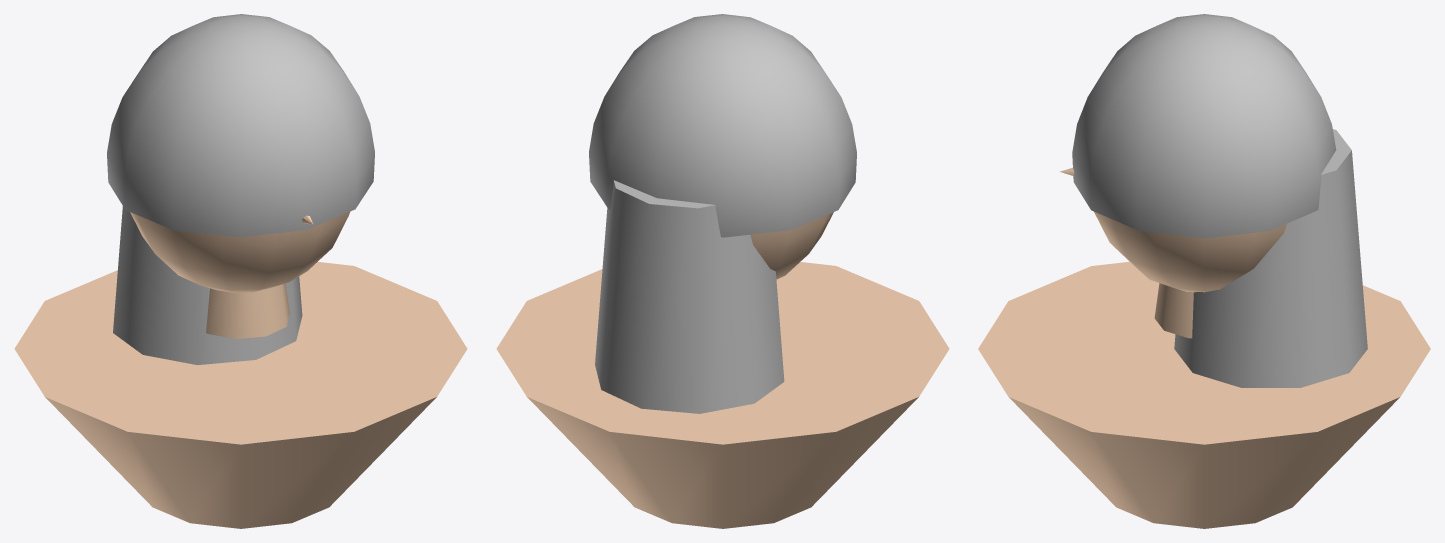
The model's file is raw_003.glb.
3 renders of one model, left to right at view 1: azimuth 30°, elevation 25°; view 2: azimuth 150°, elevation 25°; view 3: azimuth 270°, elevation 25°, orthographic.
Bounding box in the file's own units: 1.9 × 2.14 × 1.9.
